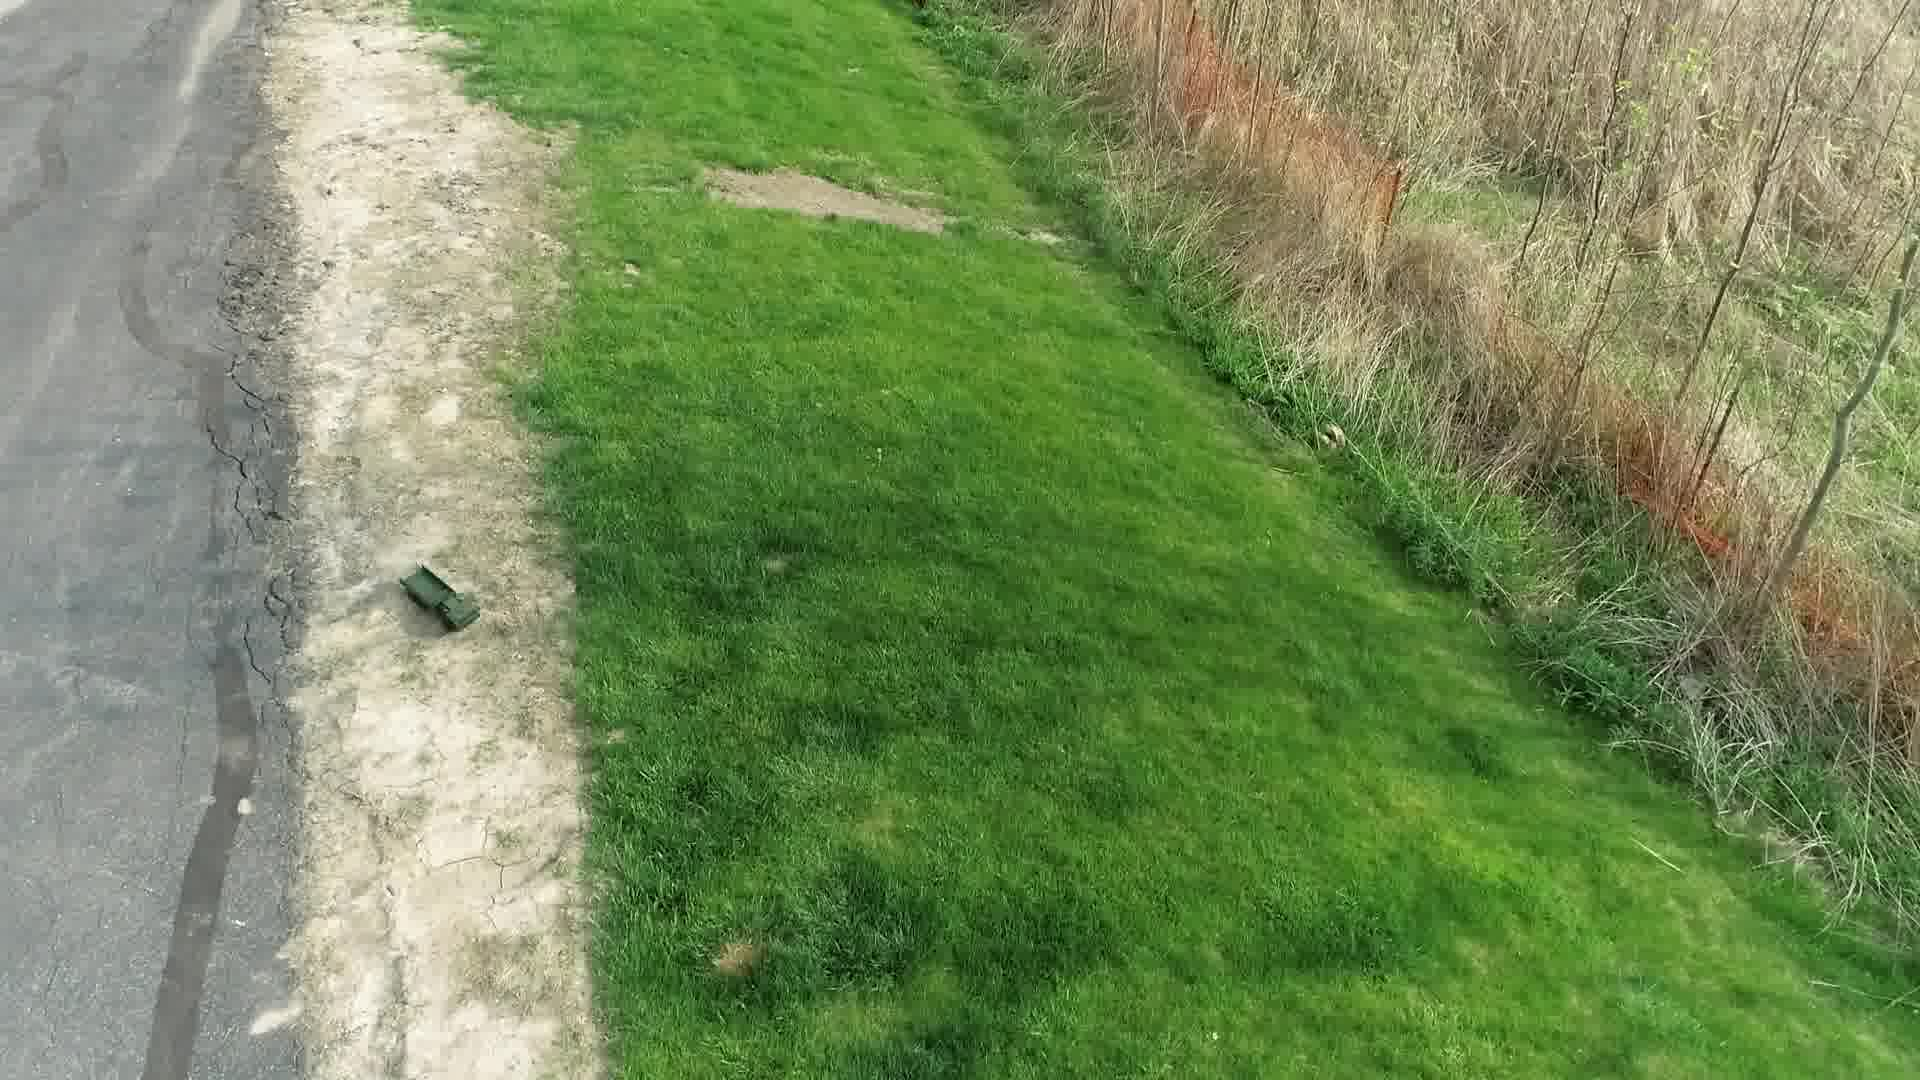transporter9: (396, 558, 487, 636)
